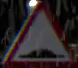Speed Breaker ahead: (5, 0, 73, 66)
